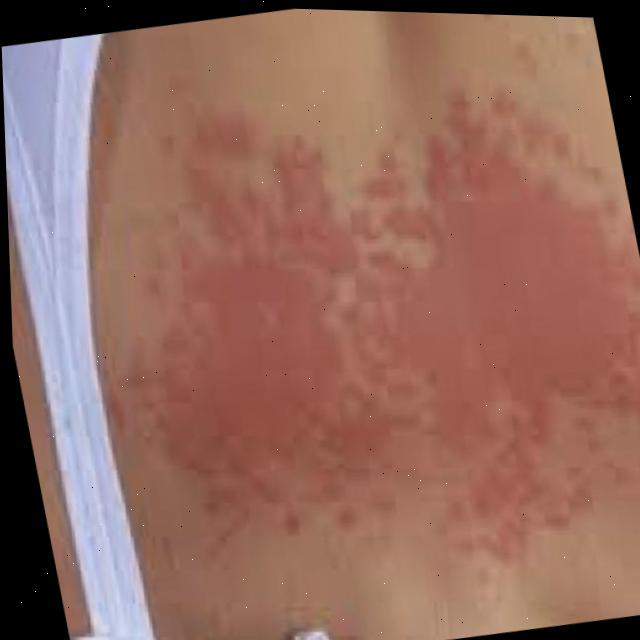Eczema: (116, 70, 640, 534)
